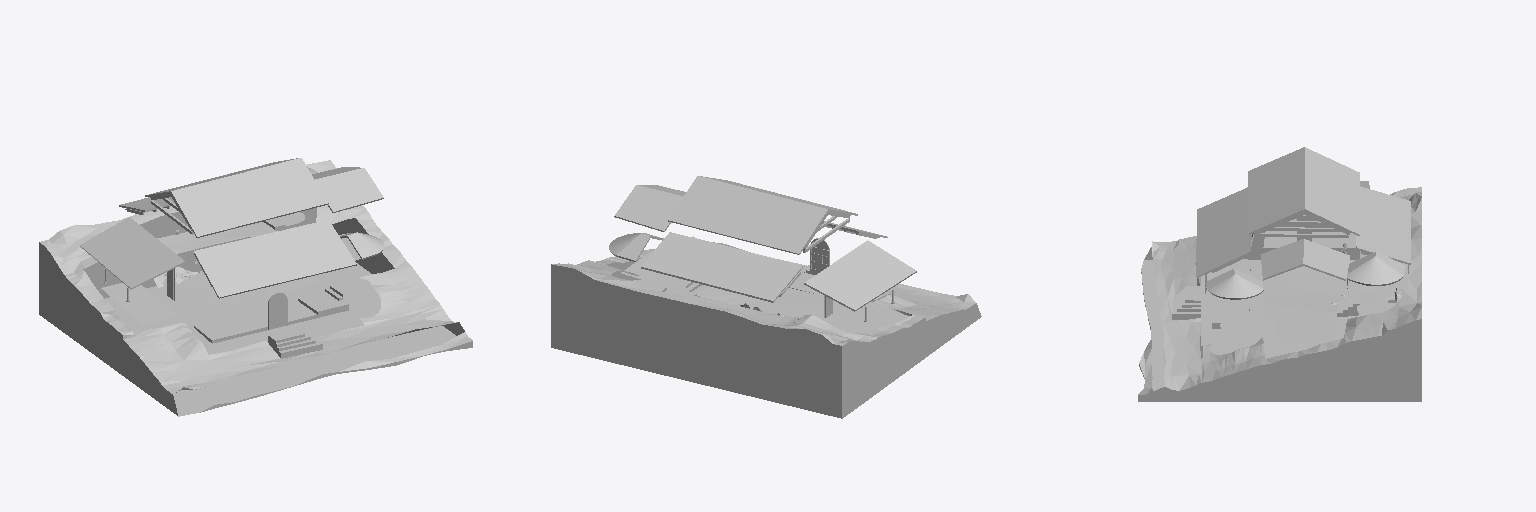
File: 2_Pedret_XII.obj
3 views of the same model, side by side, from view 1: azimuth 30°, elevation 25°; view 2: azimuth 150°, elevation 25°; view 3: azimuth 270°, elevation 25° (orthographic).
Parts seen in each view (by area): view 1: PEDRET_XII-baked-2; view 2: PEDRET_XII-baked-2; view 3: PEDRET_XII-baked-2.
Part boxes in pixels (left/top/right/bottom): PEDRET_XII-baked-2: left=39, top=158, right=472, bottom=416; PEDRET_XII-baked-2: left=551, top=176, right=981, bottom=418; PEDRET_XII-baked-2: left=1138, top=147, right=1421, bottom=401.
Bounding box in the file's own units: 21 × 10.37 × 17.78.